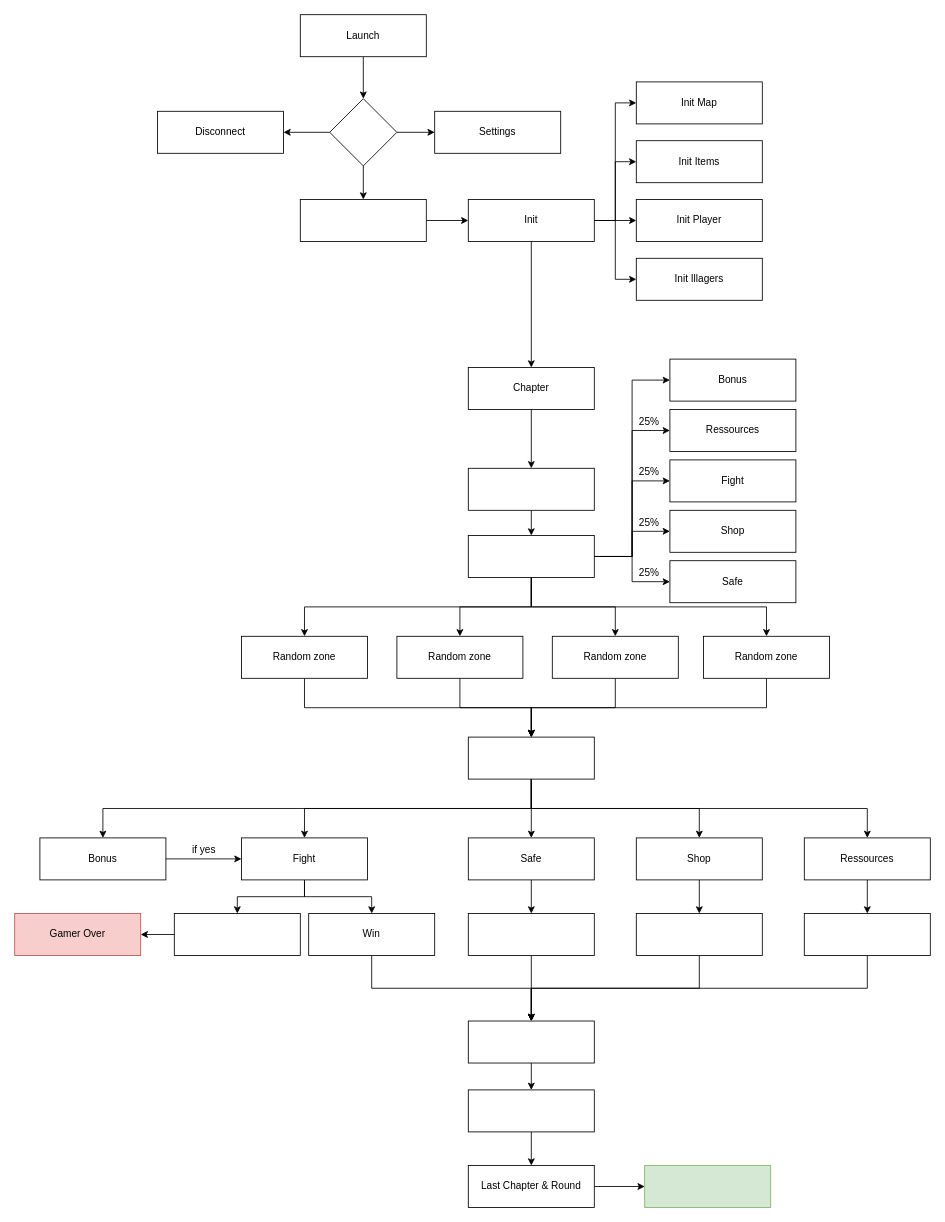
This 945x1222 diagram has some shape labels left out. The centre of each missing label's shape, as x and y in pixels:
"Craft & Buy items" goes at point (698, 934).
"EndGame Win" goes at point (707, 1186).
"Heal & Revive" goes at point (530, 934).
"Loose" goes at point (236, 934).
"Menu" goes at point (363, 132).
"Next Chapter" goes at point (530, 1110).
"Next Round" goes at point (530, 1041).
"Play" goes at point (362, 220).
"Receive resources" goes at point (866, 934).
"Round" goes at point (530, 488).
"Select a random zone" goes at point (530, 556).
"Zone selected" goes at point (530, 757).
